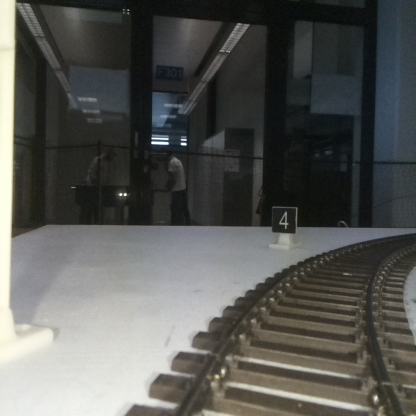black-stop-4: (272, 207, 296, 247)
